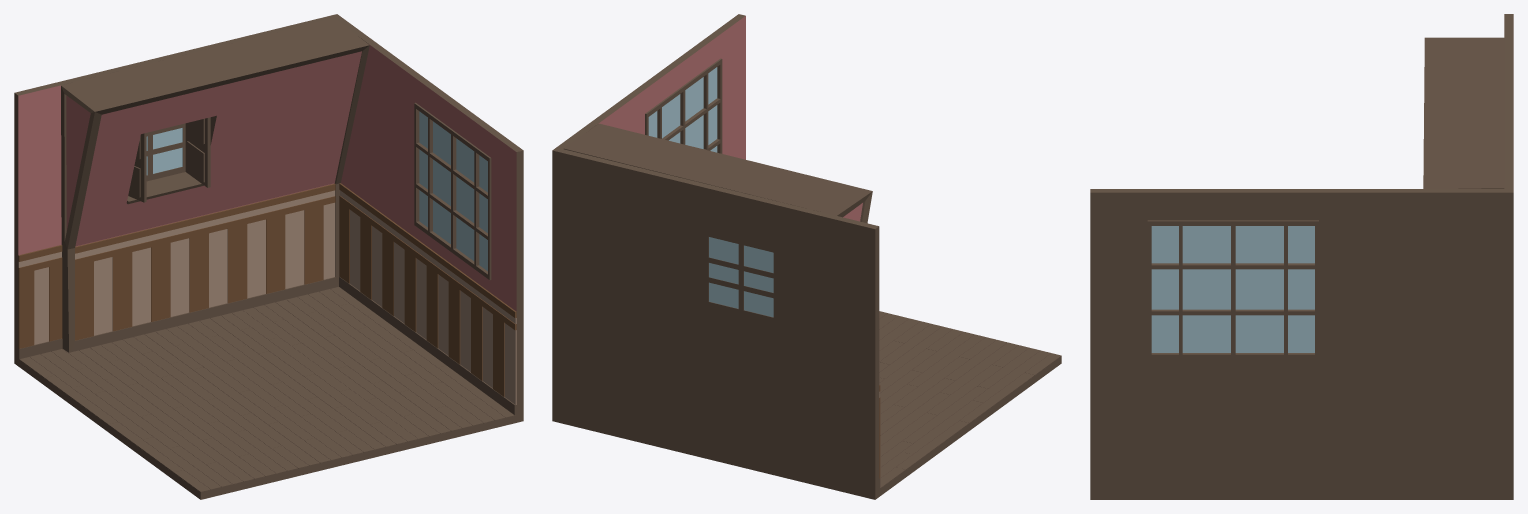
The model's file is room_04.glb.
3 views of the same model, side by side, from view 1: azimuth 30°, elevation 25°; view 2: azimuth 150°, elevation 25°; view 3: azimuth 270°, elevation 25° (orthographic). The views are drawn at different scales.
Parts seen in each view (by area): view 1: room_04; view 2: room_04; view 3: room_04.
Boxes of the visible parts, bbox=[...] form: room_04: bbox=[14, 14, 523, 499]; room_04: bbox=[552, 14, 1061, 499]; room_04: bbox=[1090, 14, 1513, 499].
Size of the model in its own units: 5.02 by 4.01 by 5.
Materials: 1 (1 with a texture image).
